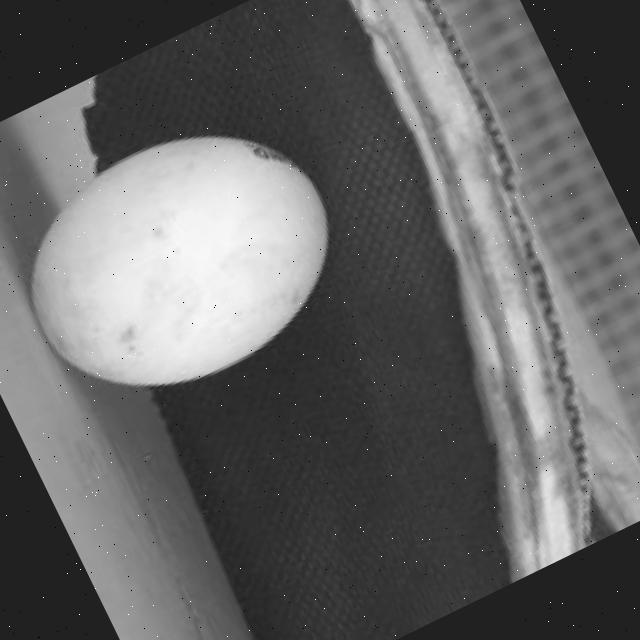ping-pong-ball: (0, 88, 369, 435)
